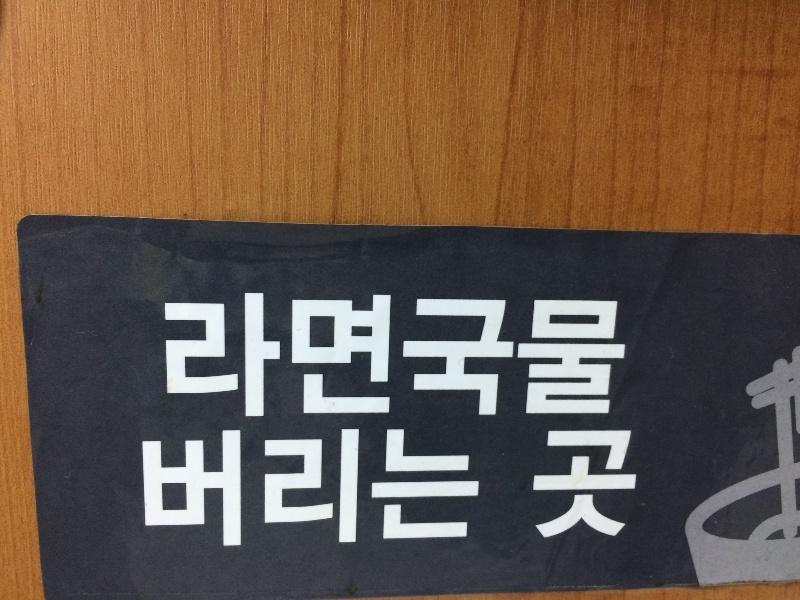text: (161, 291, 176, 420), (177, 291, 192, 420), (193, 291, 208, 420), (209, 291, 224, 420), (225, 291, 240, 420), (241, 291, 256, 420), (257, 291, 272, 420), (273, 291, 288, 420), (289, 291, 304, 420), (305, 291, 320, 420), (321, 291, 336, 420), (337, 291, 352, 420), (353, 291, 368, 420), (369, 291, 384, 420), (385, 291, 400, 420), (401, 291, 416, 420), (417, 291, 432, 420), (433, 291, 448, 420), (449, 291, 464, 420), (465, 291, 480, 420), (481, 291, 496, 420), (497, 291, 512, 420), (513, 291, 528, 420), (529, 291, 544, 420), (545, 291, 560, 420), (561, 291, 576, 420), (577, 291, 592, 420), (593, 291, 608, 420), (609, 291, 624, 420), (145, 426, 160, 550), (161, 426, 176, 550), (177, 426, 192, 550), (193, 426, 208, 550), (209, 426, 224, 550), (225, 426, 240, 550), (241, 426, 256, 550), (257, 426, 272, 550), (273, 426, 288, 550), (289, 426, 304, 550), (305, 426, 320, 550), (321, 426, 336, 550), (337, 426, 352, 550), (353, 426, 368, 550), (369, 426, 384, 550), (385, 426, 400, 550), (401, 426, 416, 550), (417, 426, 432, 550), (433, 426, 448, 550), (449, 426, 464, 550), (465, 426, 480, 550), (545, 427, 560, 544), (561, 427, 576, 544), (577, 427, 592, 544), (593, 427, 608, 544), (609, 427, 624, 544), (625, 427, 640, 544), (530, 427, 544, 544), (625, 291, 630, 420), (141, 426, 144, 550), (481, 426, 483, 550)
